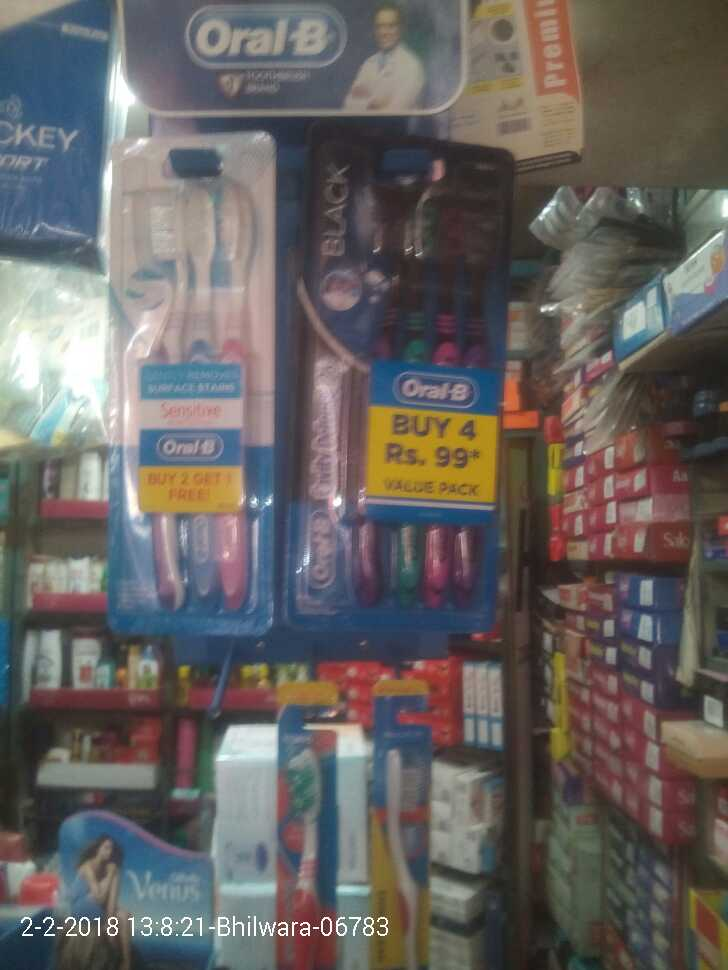oralb: (308, 135, 491, 638), (113, 135, 277, 623)
